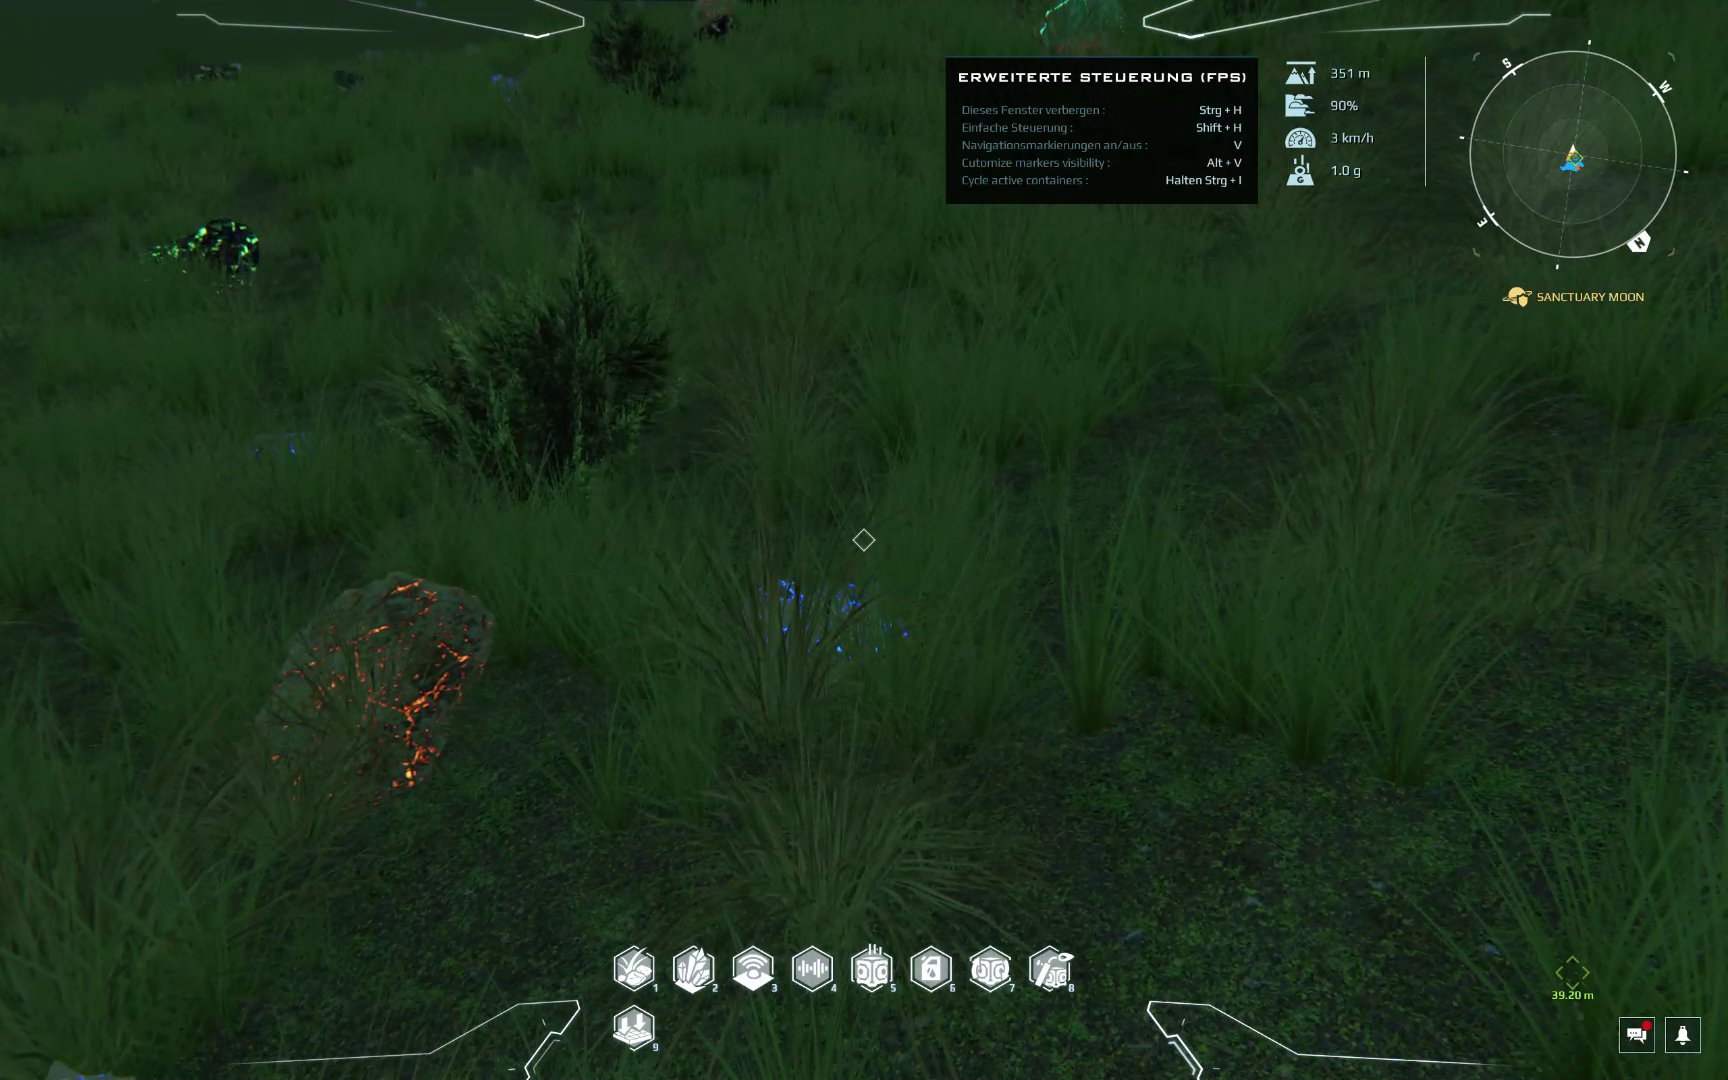Ore: (244, 564, 500, 832), (749, 557, 924, 667), (146, 214, 267, 304), (1033, 2, 1156, 55), (251, 416, 338, 484), (180, 56, 250, 87), (685, 15, 744, 46), (479, 68, 529, 105), (323, 65, 374, 98)
